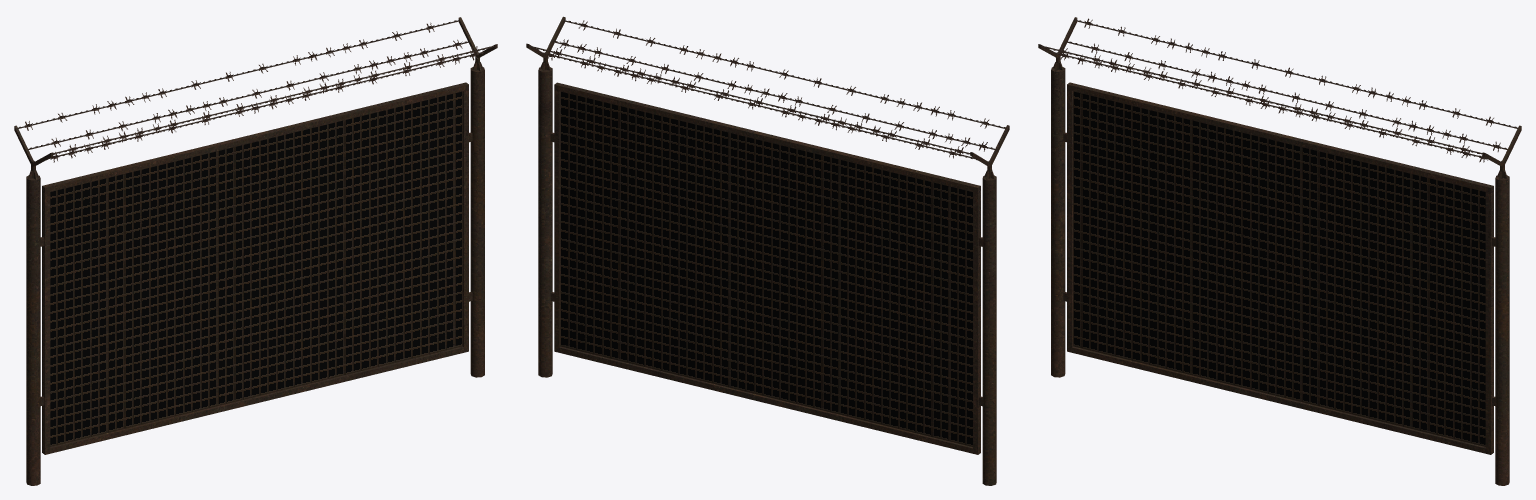
File: fence_e_2.glb
The picture shows the model from 3 angles, left to right: view 1: azimuth 30°, elevation 25°; view 2: azimuth 150°, elevation 25°; view 3: azimuth 330°, elevation 25°; orthographic projection.
Visible parts, largest first — view 1: fence_e_2; view 2: fence_e_2; view 3: fence_e_2.
Part boxes in pixels (x1,y1,x2,y2): fence_e_2: [14, 17, 497, 485]; fence_e_2: [526, 16, 1009, 485]; fence_e_2: [1038, 17, 1521, 485].
Bounding box in the file's own units: 3.6 × 2.61 × 0.5551.
3 materials, 3 textured.
